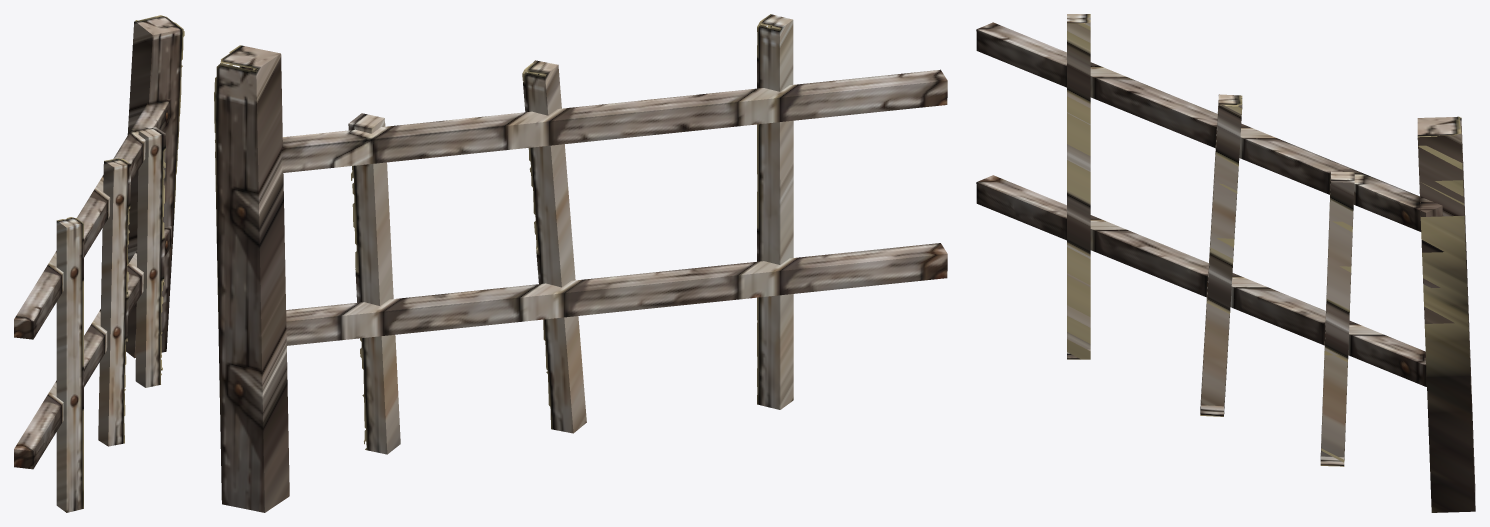
The model's file is fence_12.glb.
The picture shows the model from 3 angles, left to right: view 1: azimuth 30°, elevation 25°; view 2: azimuth 150°, elevation 25°; view 3: azimuth 270°, elevation 25°; orthographic projection. The views are drawn at different scales.
Visible parts, largest first — view 1: fence_12_game; view 2: fence_12_game; view 3: fence_12_game.
Part boxes in pixels (x1,y1,x2,y2): fence_12_game: (14,15,184,512); fence_12_game: (214,14,947,512); fence_12_game: (976,14,1475,512).
Size of the model in its own units: 1.42 by 1.26 by 1.48.
Materials: 1 (1 with a texture image).
